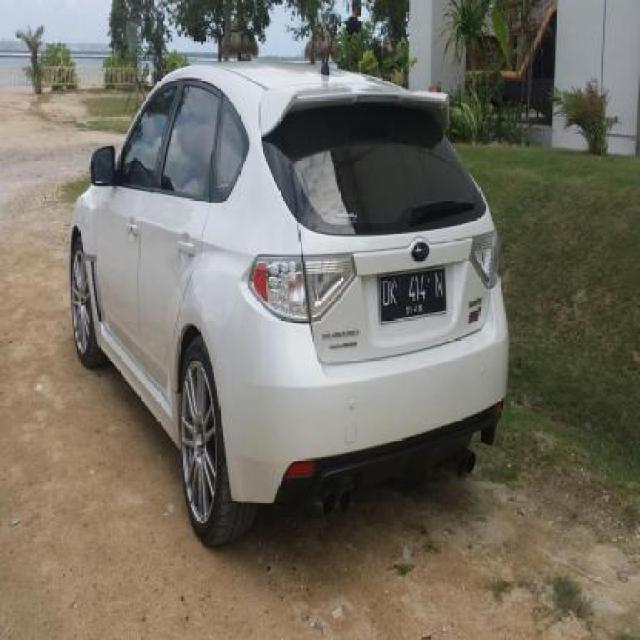License-Plates: (378, 264, 446, 324)
